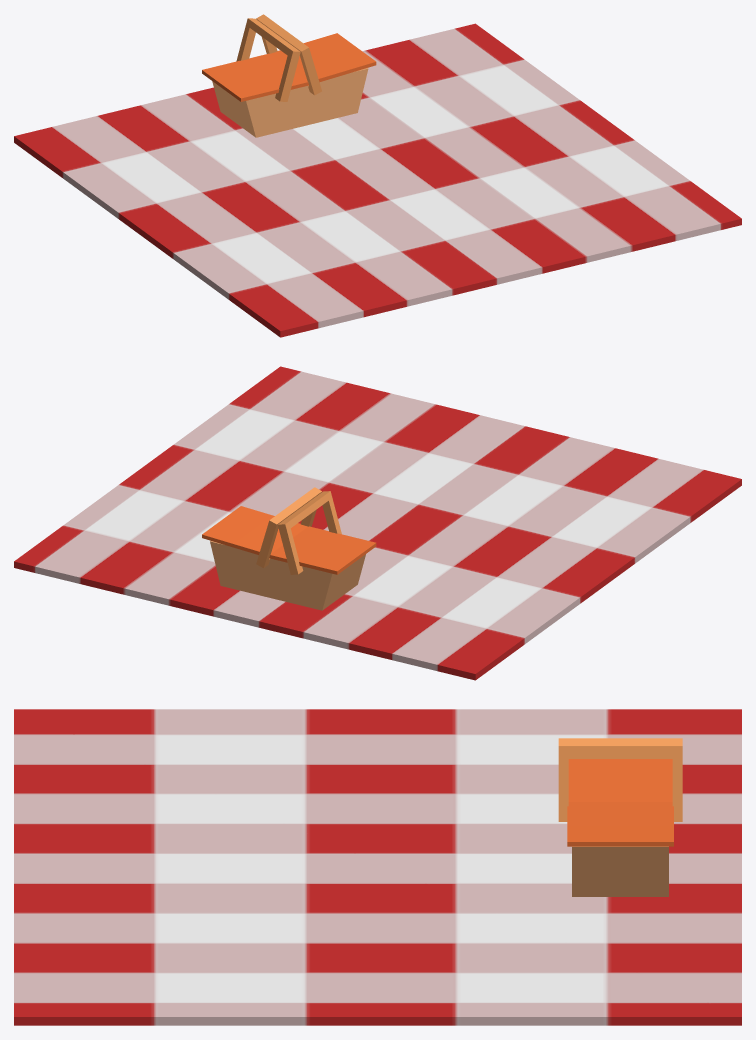
File: Picnic_Place.fbx
The picture shows the model from 3 angles, top to bottom: view 1: azimuth 30°, elevation 25°; view 2: azimuth 150°, elevation 25°; view 3: azimuth 270°, elevation 25°; orthographic projection. The views are drawn at different scales.
Parts seen in each view (by area): view 1: Picnic_Place; view 2: Picnic_Place; view 3: Picnic_Place.
Part boxes in pixels (x1=…): Picnic_Place: x1=14, y1=14, x2=741, y2=337; Picnic_Place: x1=14, y1=366, x2=741, y2=680; Picnic_Place: x1=14, y1=709, x2=741, y2=1025.
Size of the model in its own units: 150 by 27.53 by 150.
